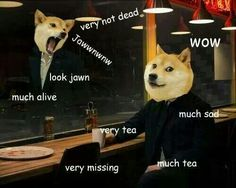doge: (133, 43, 197, 106), (26, 6, 80, 60)
